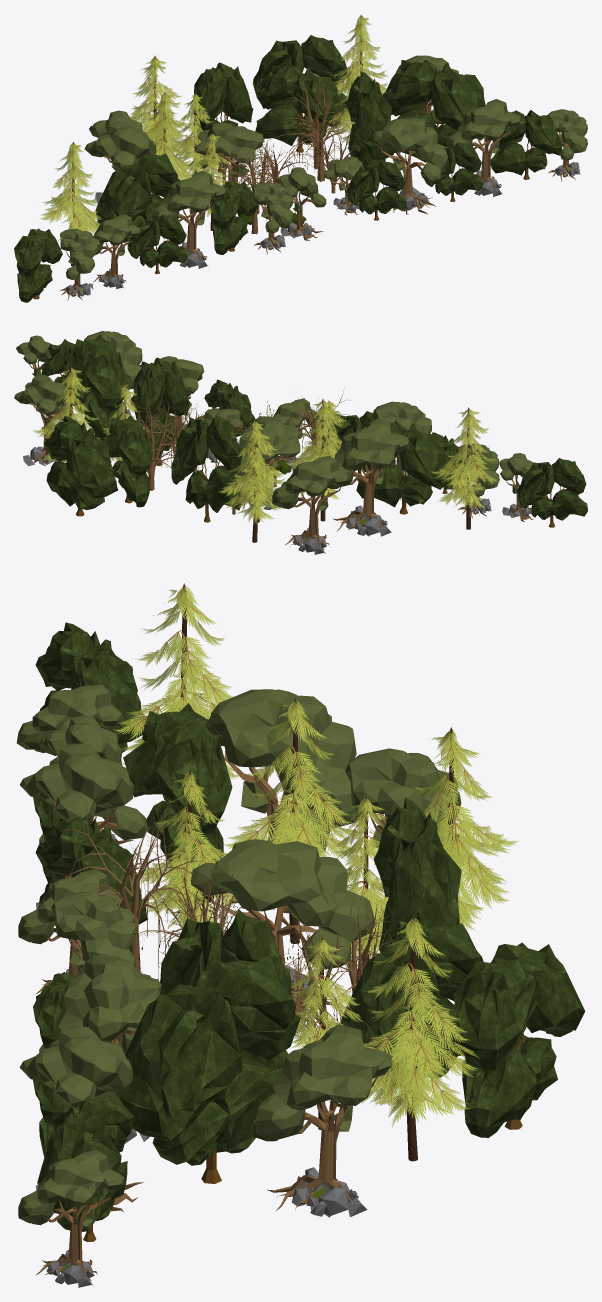
Rendered from forest.glb.
3 renders of one model, top to bottom at view 1: azimuth 30°, elevation 25°; view 2: azimuth 150°, elevation 25°; view 3: azimuth 270°, elevation 25°, orthographic. The views are drawn at different scales.
Parts seen in each view (by area): view 1: AshTree_mesh.010, AshTree_mesh.002, AshTree_mesh.012, Mball.017_Mesh.005, AshTree_mesh.007, AshTree_mesh.004, AshTree_mesh.011, AshTree_mesh.003, Mball.017_Mesh.003, Mball.017_Mesh.008, PineTree_5.005, AshTree_mesh.009 (+26 smaller); view 2: AshTree_mesh.003, AshTree_mesh.011, Mball.017_Mesh.011, AshTree_mesh.012, AshTree_mesh.010, AshTree_mesh.004, Mball.017_Mesh.006, AshTree_mesh.009, PineTree_5.005, PineTree_5.006, AshTree_mesh.002, Mball.017_Mesh.012 (+21 smaller); view 3: AshTree_mesh.010, AshTree_mesh.011, Mball.017_Mesh.002, Mball.017_Mesh.012, Mball.017_Mesh.011, PineTree_5.004, AshTree_mesh.012, AshTree_mesh.002, AshTree_mesh.003, PineTree_5.003, PineTree_5.006, Mball.017_Mesh.003 (+22 smaller).
Part boxes in pixels (x1,y1,x2,y2): AshTree_mesh.010: [382, 60, 485, 162]; AshTree_mesh.002: [255, 65, 344, 152]; AshTree_mesh.012: [95, 153, 180, 242]; Mball.017_Mesh.005: [373, 118, 447, 214]; AshTree_mesh.007: [490, 110, 562, 179]; AshTree_mesh.004: [346, 71, 393, 167]; AshTree_mesh.011: [252, 35, 347, 117]; AshTree_mesh.003: [193, 62, 253, 172]; Mball.017_Mesh.003: [152, 171, 225, 268]; Mball.017_Mesh.008: [446, 99, 520, 196]; PineTree_5.005: [40, 142, 102, 266]; AshTree_mesh.009: [14, 228, 62, 302]; AshTree_mesh.003: [171, 414, 242, 522]; AshTree_mesh.011: [44, 416, 117, 516]; Mball.017_Mesh.011: [327, 418, 408, 536]; AshTree_mesh.012: [356, 421, 450, 514]; AshTree_mesh.010: [63, 334, 128, 441]; AshTree_mesh.004: [133, 357, 189, 465]; Mball.017_Mesh.006: [272, 455, 348, 554]; AshTree_mesh.009: [517, 458, 587, 527]; PineTree_5.005: [430, 407, 500, 529]; PineTree_5.006: [217, 420, 285, 542]; AshTree_mesh.002: [101, 415, 153, 507]; Mball.017_Mesh.012: [14, 375, 73, 466]; AshTree_mesh.010: [111, 956, 300, 1183]; AshTree_mesh.011: [453, 942, 585, 1137]; Mball.017_Mesh.002: [191, 839, 375, 1025]; Mball.017_Mesh.012: [251, 1024, 391, 1217]; Mball.017_Mesh.011: [205, 689, 362, 925]; PineTree_5.004: [362, 915, 478, 1161]; AshTree_mesh.012: [123, 703, 232, 902]; AshTree_mesh.002: [340, 923, 483, 1101]; AshTree_mesh.003: [373, 797, 461, 995]; PineTree_5.003: [223, 698, 372, 944]; PineTree_5.006: [412, 727, 518, 930]; Mball.017_Mesh.003: [20, 743, 147, 909].
Bounding box in the file's own units: 145 × 31.22 × 63.16.
Materials: 8 (3 with a texture image).
